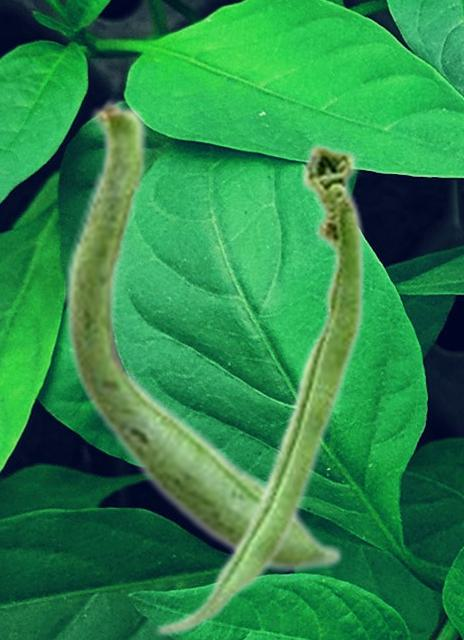french_bean: (64, 95, 343, 573), (153, 140, 365, 637)
